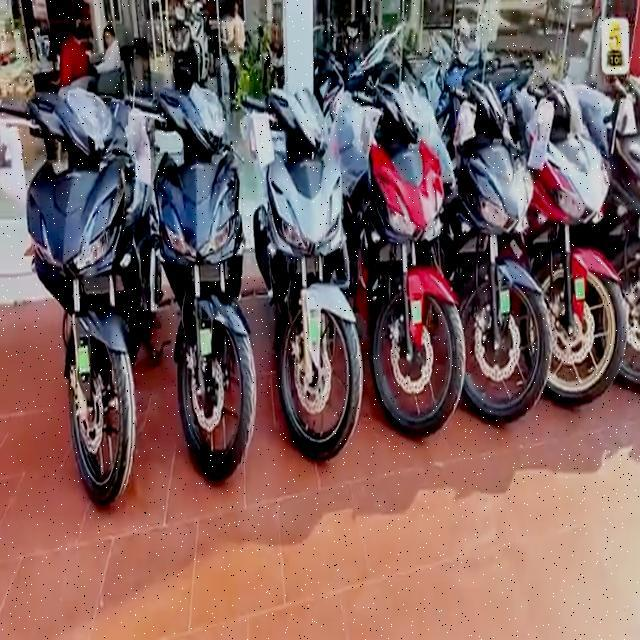motorcycle: (18, 74, 163, 515), (146, 71, 274, 490), (266, 78, 374, 466), (361, 64, 467, 452), (453, 68, 553, 431), (543, 53, 639, 426)
